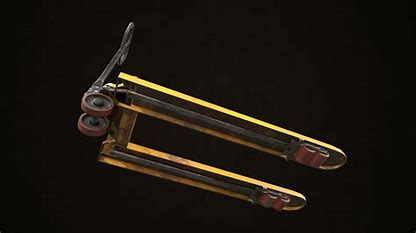Pallet Jack: (71, 21, 349, 214)
